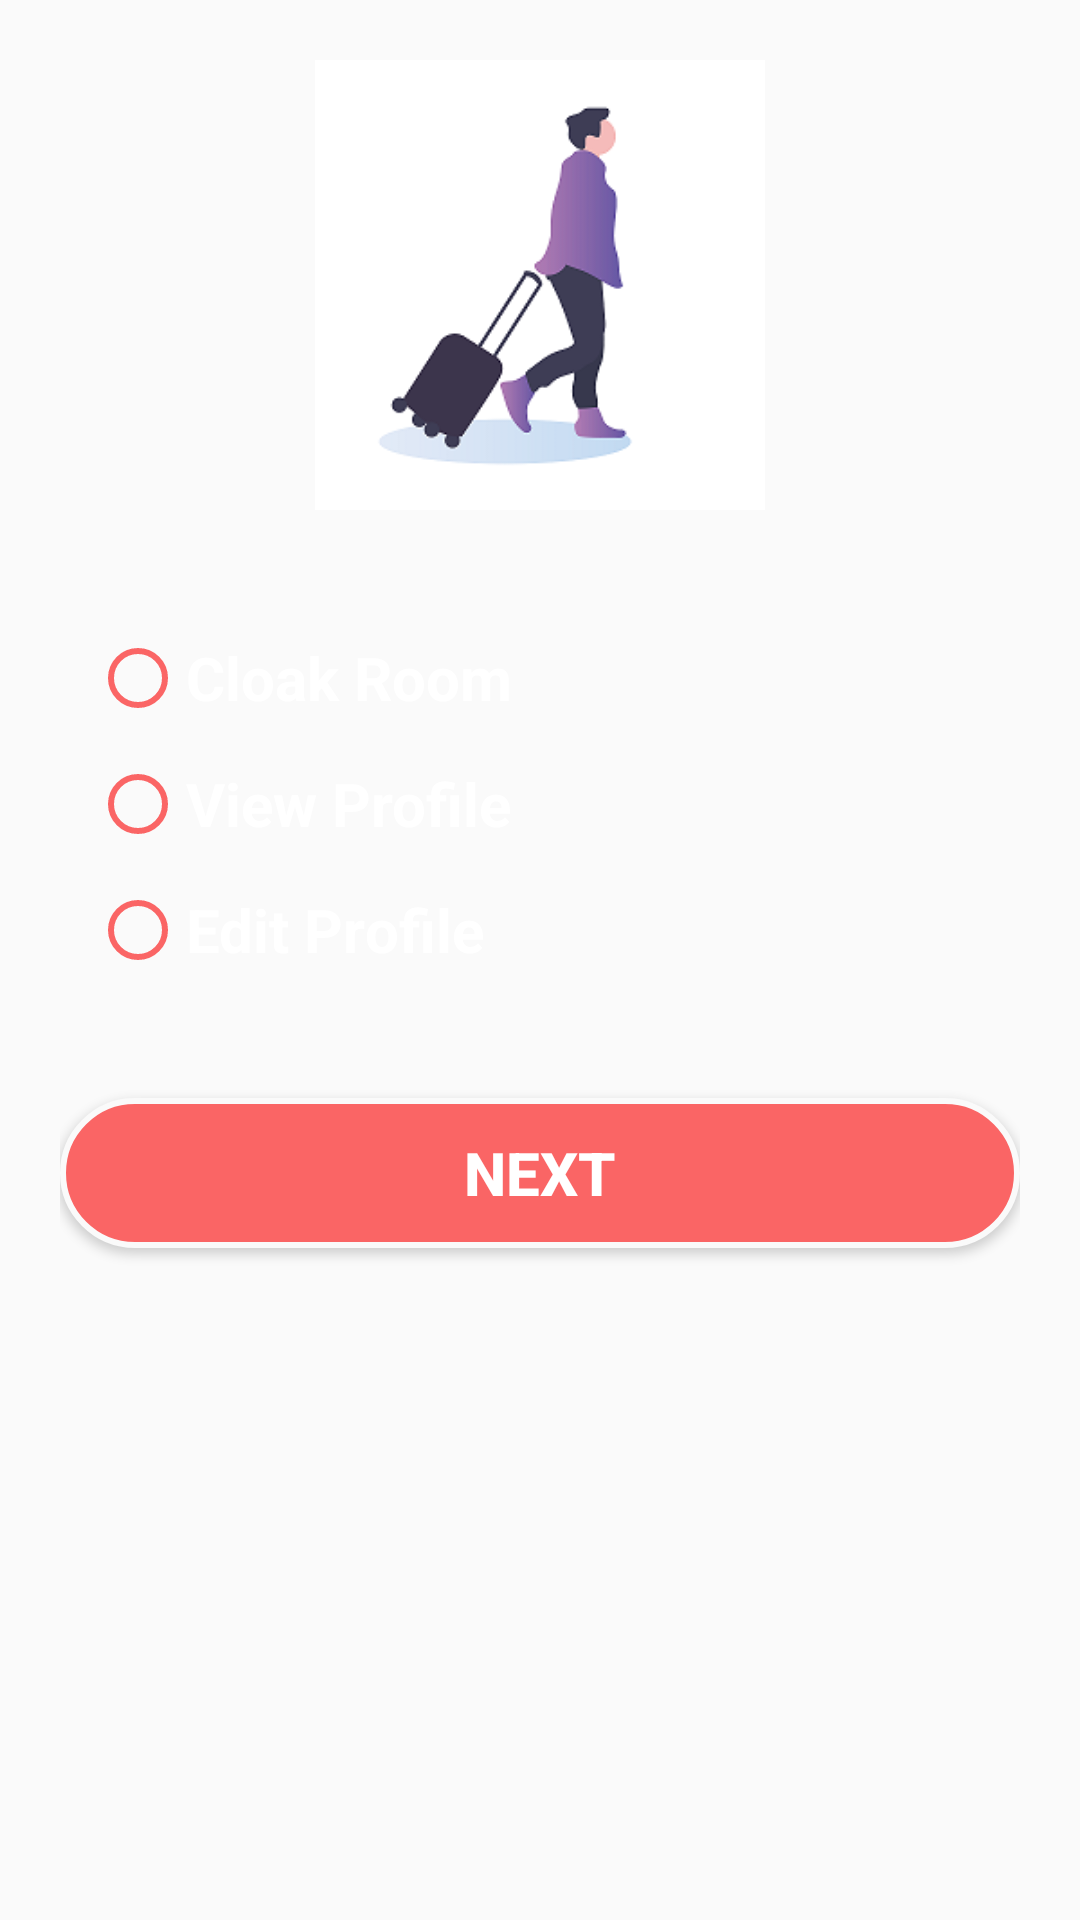

Where to tap for icons on this 1080 x 1920 app screen, as (x,y):
tourist: (505,285)
